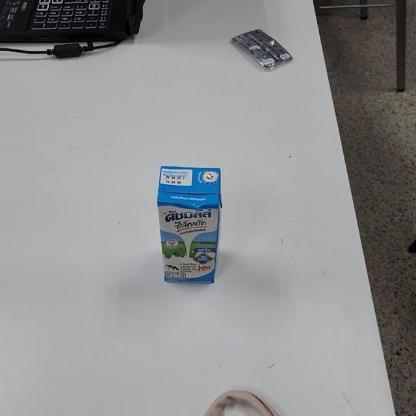Others: (152, 155, 228, 291)
